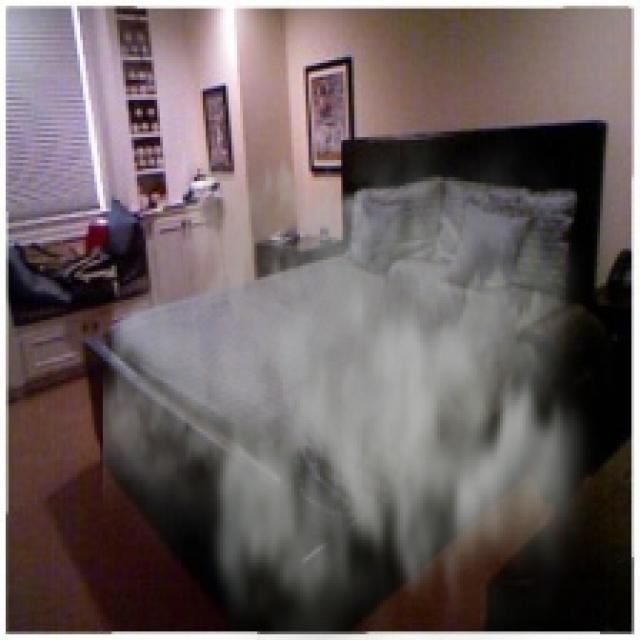Smoke: (103, 97, 620, 637)
